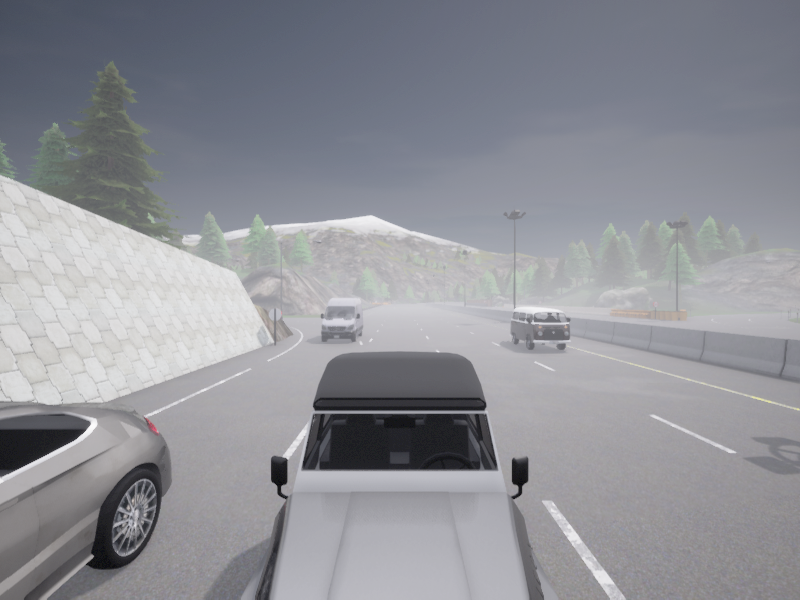vehicle: (240, 351, 558, 599), (0, 401, 171, 599), (510, 307, 570, 349), (320, 298, 363, 341)
